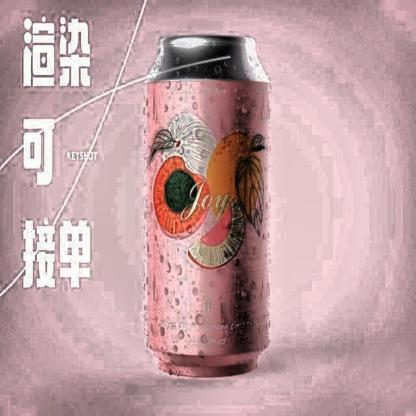Can: (142, 27, 274, 383)
